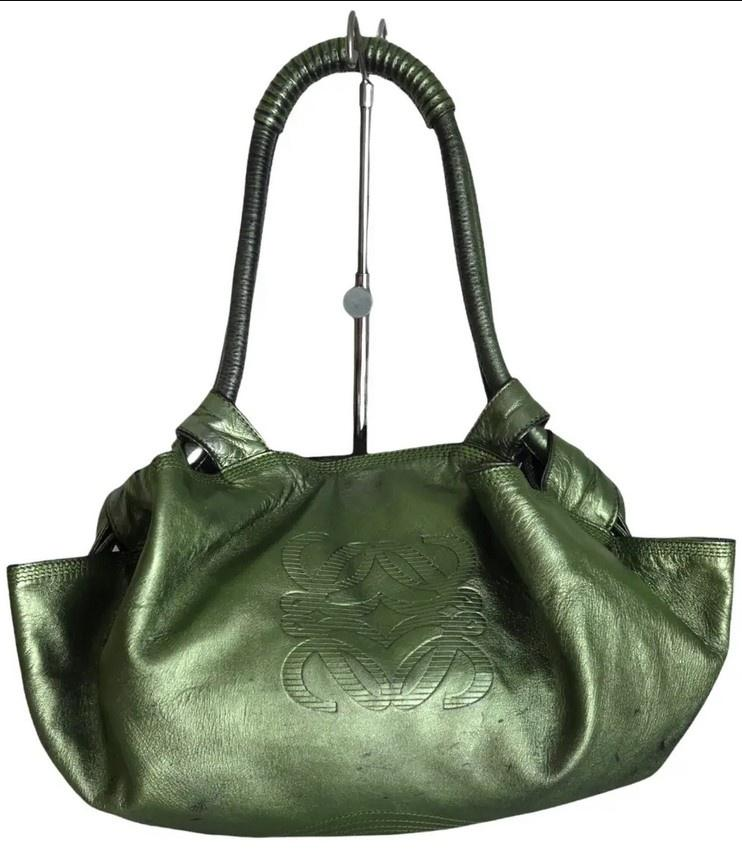LOEWE: (268, 511, 505, 726)
